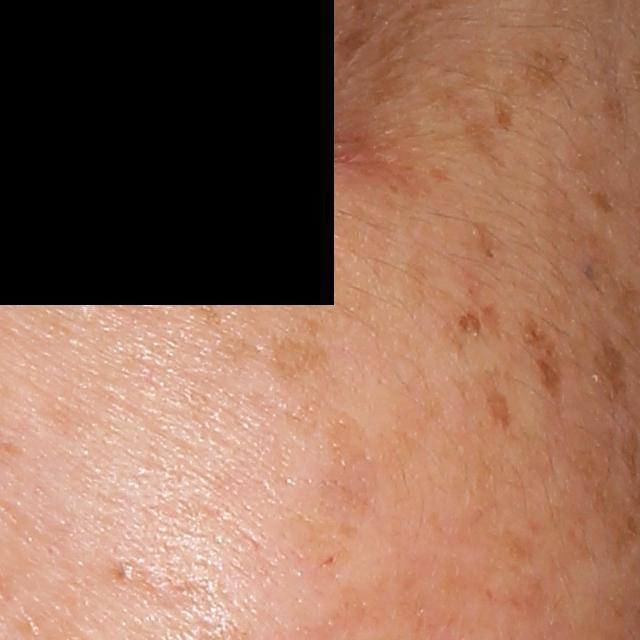melasma: (587, 331, 637, 411), (261, 340, 335, 376), (527, 46, 571, 96), (335, 17, 380, 65), (462, 119, 502, 173), (181, 289, 232, 331), (465, 219, 509, 261), (485, 93, 521, 136), (481, 385, 512, 428), (589, 188, 618, 221), (428, 162, 450, 181)
